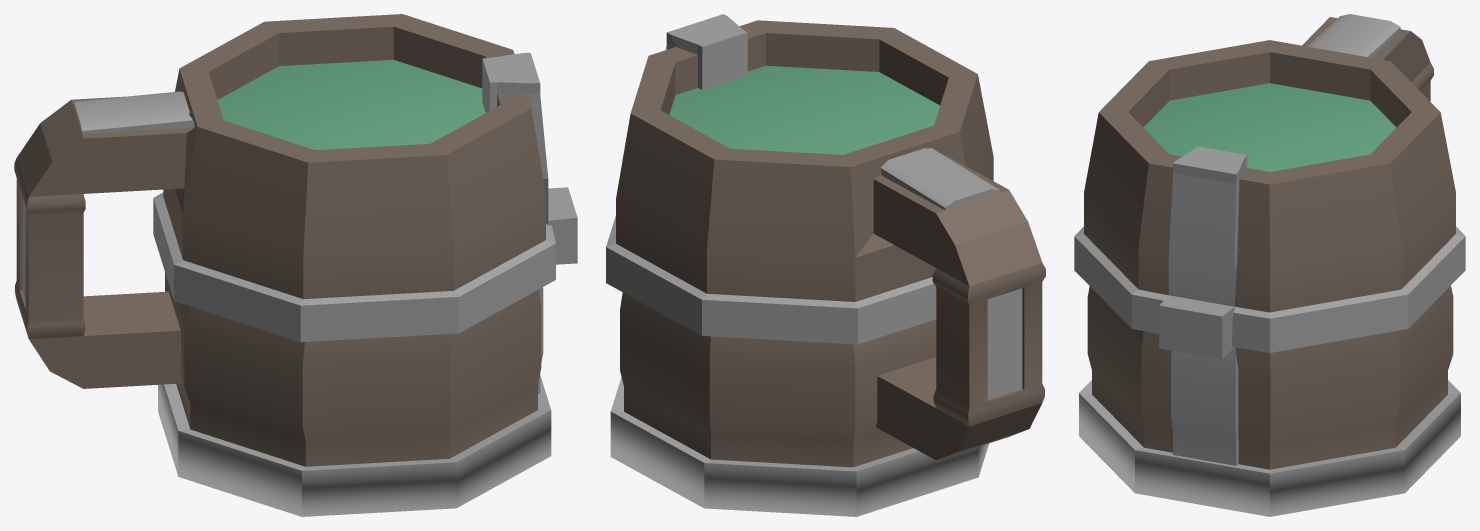
Rendered from Drink.fbx.
The picture shows the model from 3 angles, left to right: view 1: azimuth 30°, elevation 25°; view 2: azimuth 150°, elevation 25°; view 3: azimuth 270°, elevation 25°; orthographic projection. The views are drawn at different scales.
Visible parts, largest first — view 1: mug, drink; view 2: mug, drink; view 3: mug, drink.
Part boxes in pixels (x1=…): mug: x1=14, y1=14, x2=577, y2=516; drink: x1=217, y1=59, x2=485, y2=149; mug: x1=606, y1=14, x2=1045, y2=516; drink: x1=669, y1=65, x2=939, y2=154; mug: x1=1074, y1=14, x2=1465, y2=516; drink: x1=1143, y1=83, x2=1396, y2=171.
Bounding box in the file's own units: 5.77 × 4.14 × 4.39.
